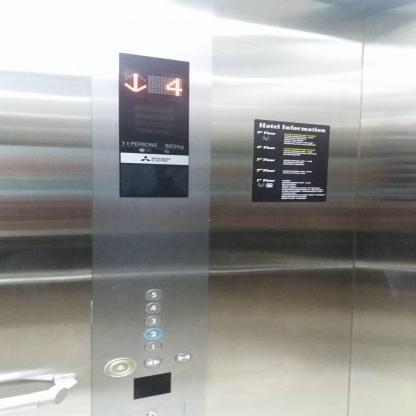1: (142, 340, 163, 352)
2: (142, 326, 163, 340)
3: (144, 315, 162, 327)
4: (142, 301, 164, 313)
5: (144, 288, 162, 300)
alarm: (103, 356, 137, 378)
close: (174, 352, 192, 363)
keyhole: (144, 410, 160, 416)
led: (116, 49, 192, 200), (133, 371, 170, 399)
open: (142, 356, 162, 367)
